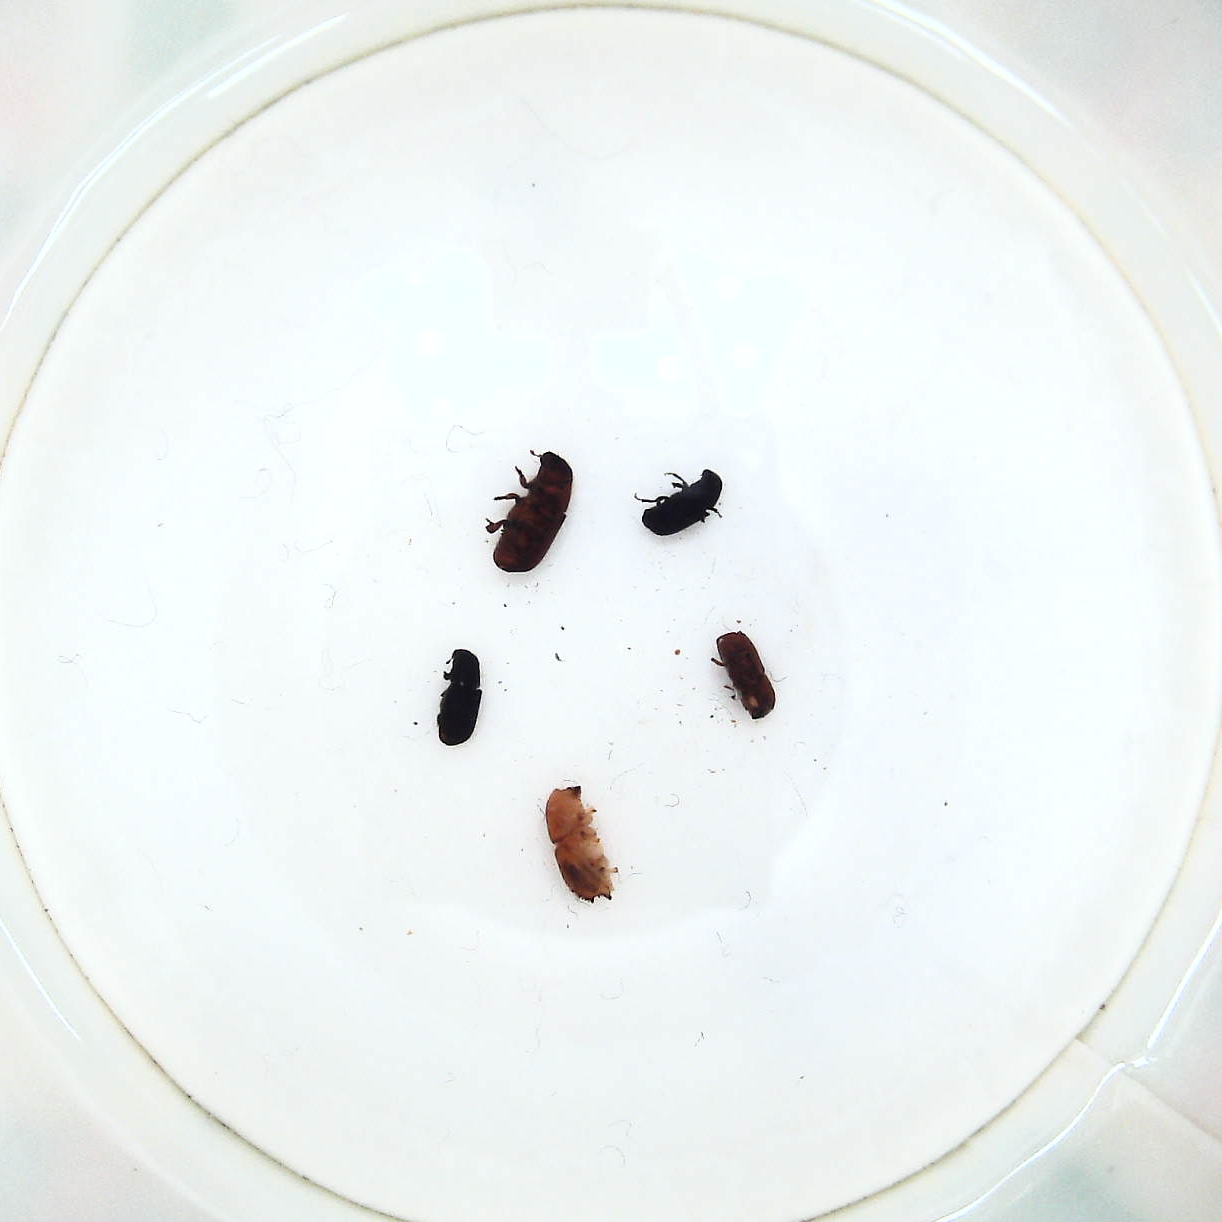Boerner: (543, 777, 623, 911)
Leconte: (485, 443, 579, 577)
armandi: (435, 645, 491, 753)
coleoptera: (630, 460, 728, 540)
linnaeus: (711, 631, 779, 728)
